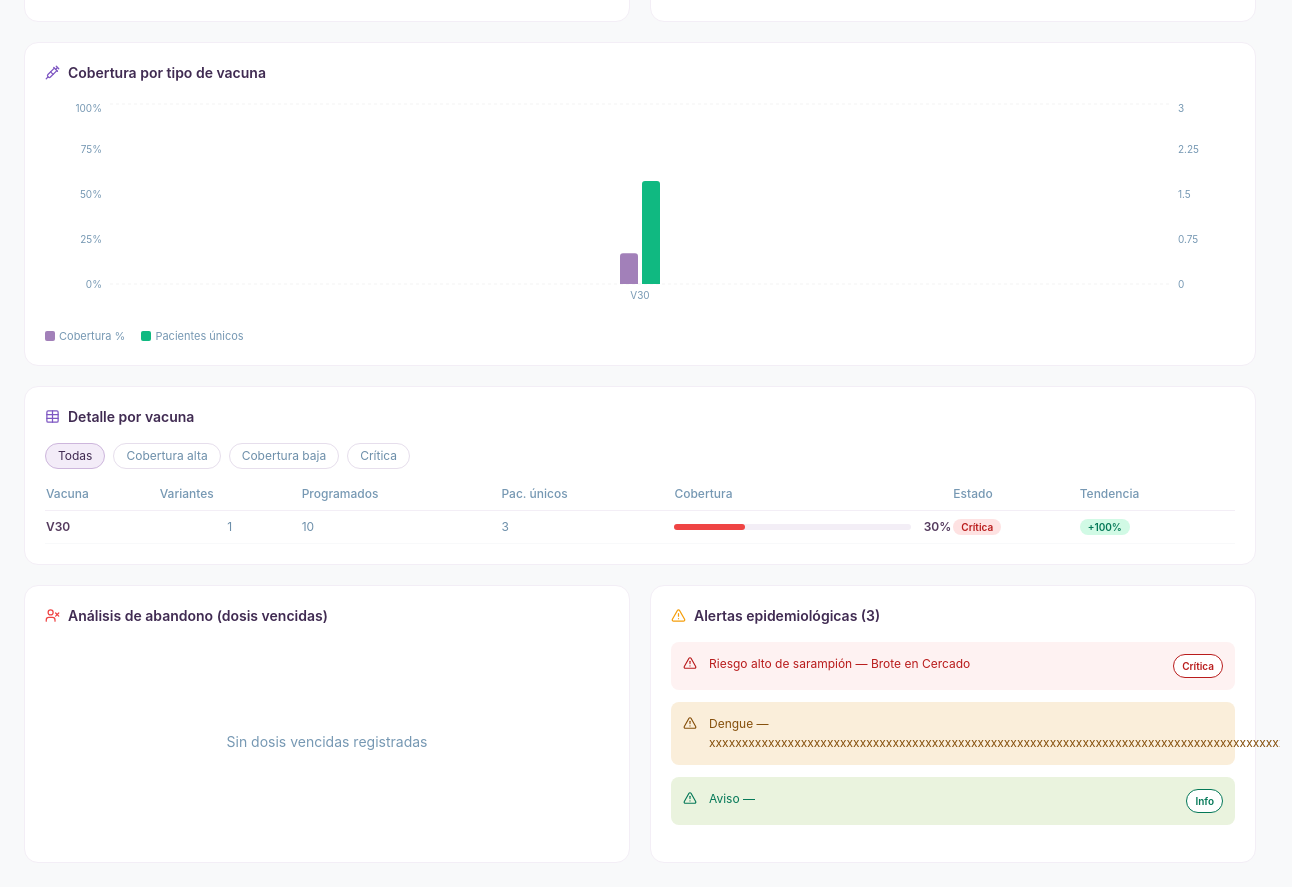
IndicatorsView – detalle por vacuna › pestañas por nivel de cobertura › avisa si una categoría no tiene vacunas
(page scrolled)
Click the button "Cobertura alta" at (167, 456), box left=113, top=443, right=221, bottom=469
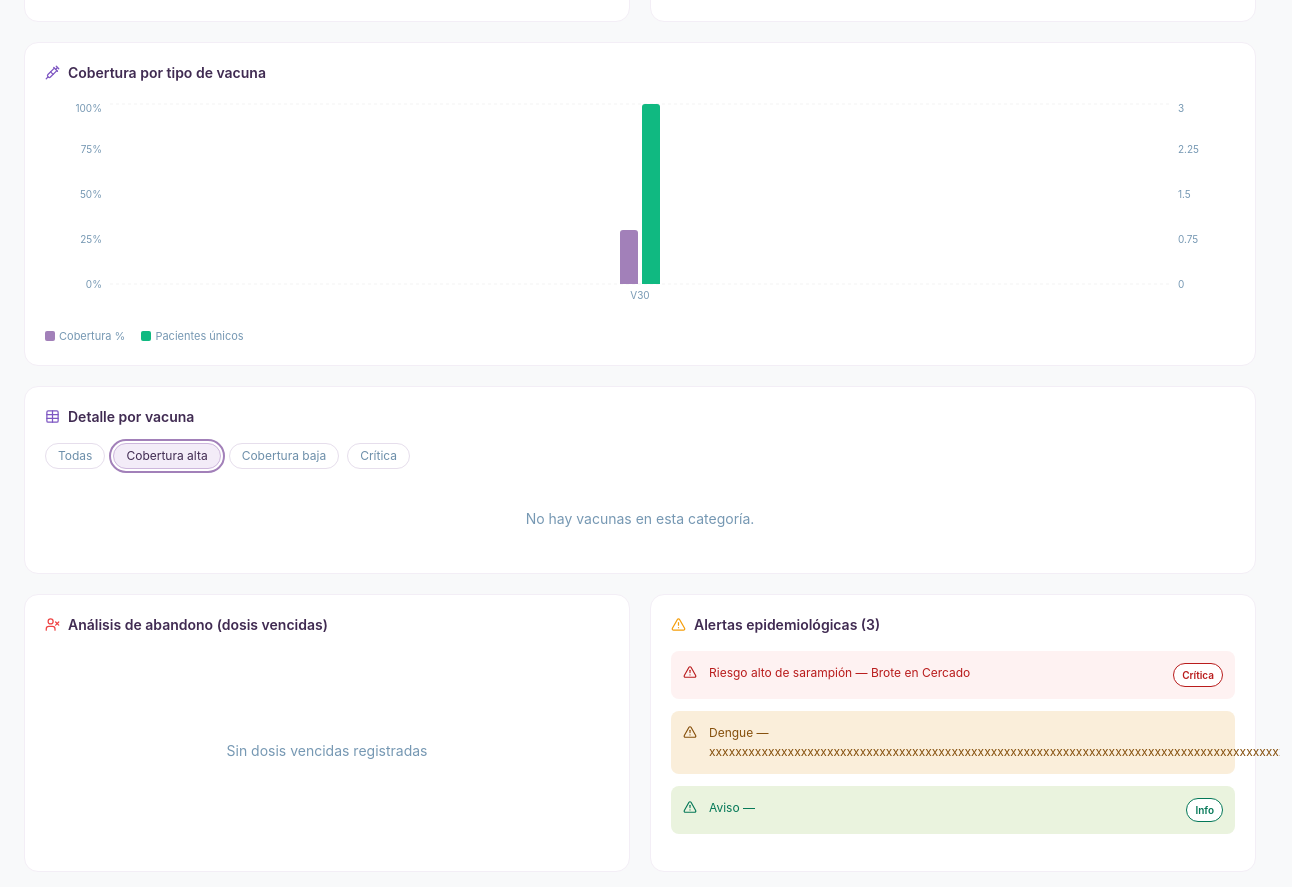
Expected: the text "No hay vacunas en esta categoría." is shown, left=526, top=510, right=754, bottom=527
